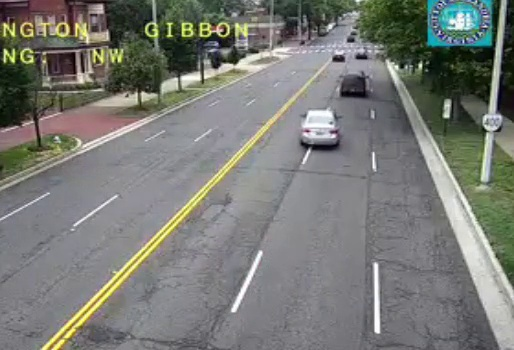car: (300, 110, 339, 146), (340, 71, 367, 94)
